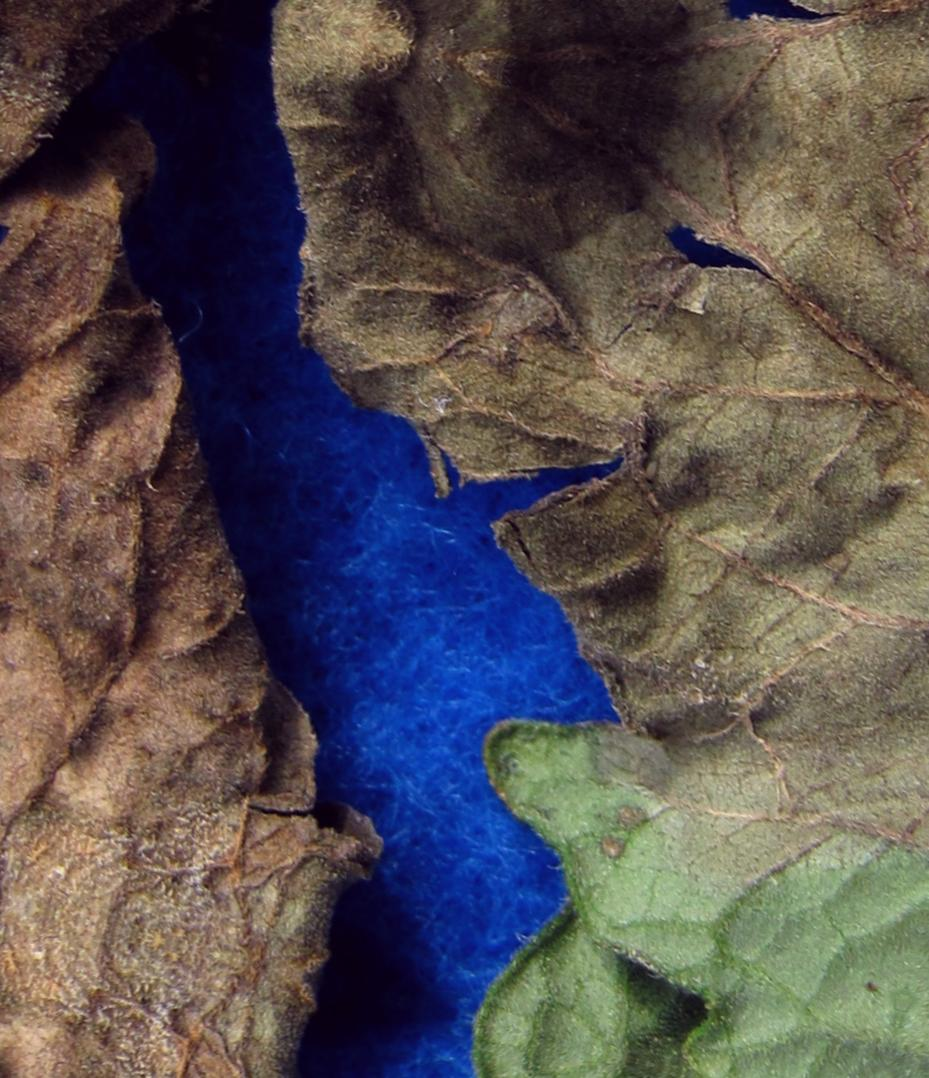Tomato leaf late blight: (0, 0, 929, 1078), (5, 1, 929, 1078)
